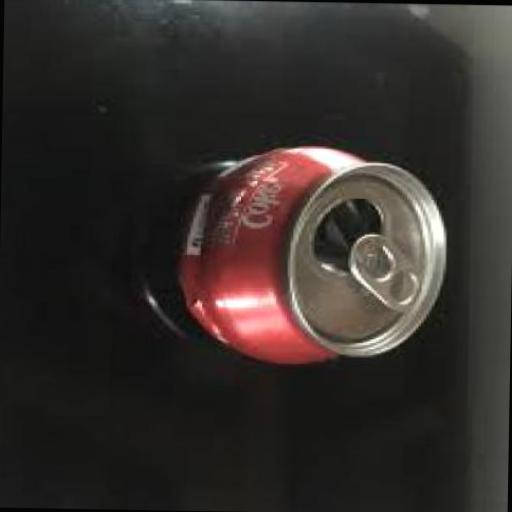metal: (180, 142, 450, 372)
